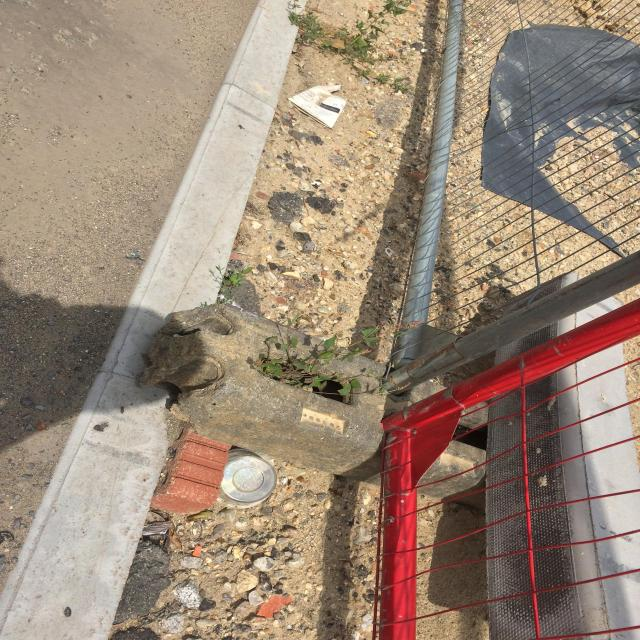litter: (273, 70, 361, 135)
